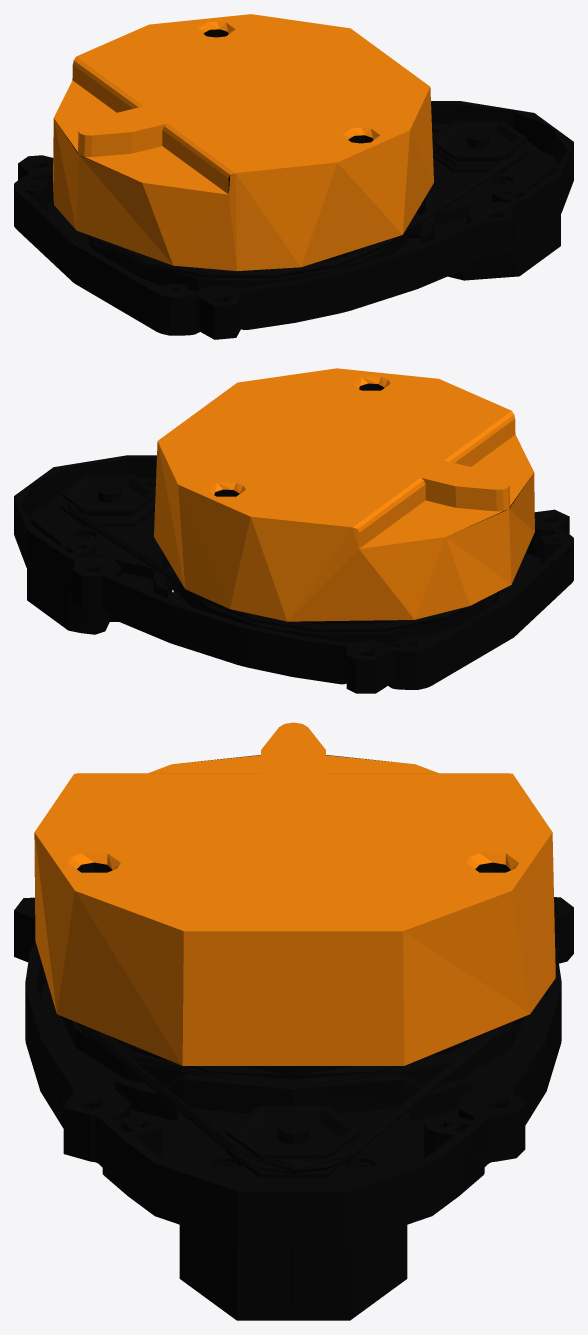
File: lds_v2_single.dae
The picture shows the model from 3 angles, top to bottom: view 1: azimuth 30°, elevation 25°; view 2: azimuth 150°, elevation 25°; view 3: azimuth 270°, elevation 25°; orthographic projection. The views are drawn at different scales.
Parts seen in each view (by area): view 1: lds_0; view 2: lds_0; view 3: lds_0.
Part boxes in pixels (x1,y1,x2,y2): lds_0: [14, 14, 573, 339]; lds_0: [14, 368, 573, 693]; lds_0: [14, 722, 573, 1320].
Bounding box in the file's own units: 93.85 × 68.88 × 39.2.
